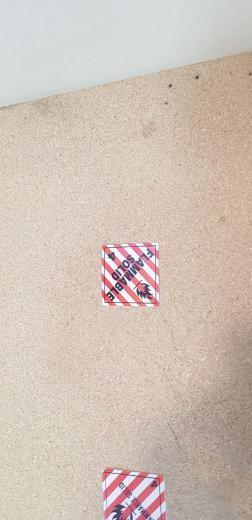flammable-solid: (101, 242, 162, 307), (101, 469, 167, 520)
